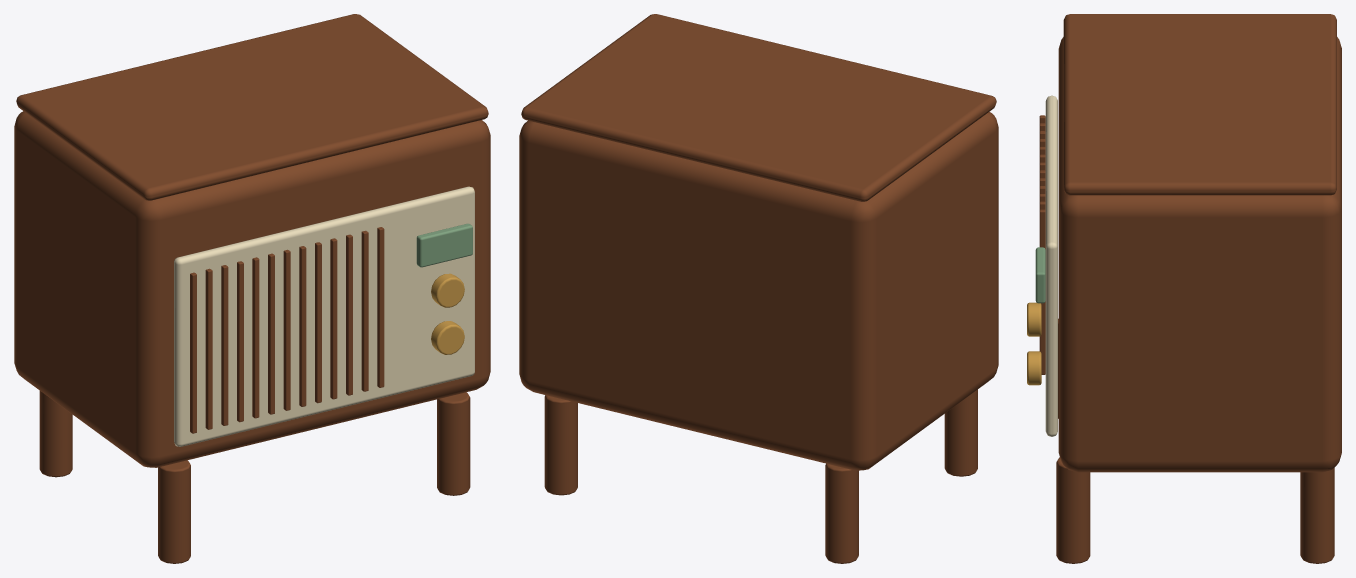
Rendered from console_radio.glb.
3 renders of one model, left to right at view 1: azimuth 30°, elevation 25°; view 2: azimuth 150°, elevation 25°; view 3: azimuth 270°, elevation 25°, orthographic. The views are drawn at different scales.
Parts seen in each view (by area): view 1: Cube, Cube.016, Cube.001, Cylinder.003, Cylinder.001, Cylinder, Cube.015, Cube.011, Cube.003, Cube.006, Cube.008, Cube.004 (+10 smaller); view 2: Cube, Cube.016, Cylinder, Cylinder.002, Cylinder.001; view 3: Cube, Cube.016, Cube.001, Cylinder.003, Cylinder.002, Cube.014, Cube.015, Cylinder.004, Cylinder.005.
Boxes of the visible parts, box(x1,y1,x2,y2) form: Cube: box(14, 111, 490, 467); Cube.016: box(16, 14, 488, 200); Cube.001: box(174, 186, 474, 446); Cylinder.003: box(437, 392, 470, 495); Cylinder.001: box(158, 460, 190, 563); Cylinder: box(39, 391, 72, 477); Cube.015: box(416, 223, 472, 267); Cube.011: box(330, 238, 337, 399); Cube.003: box(205, 268, 212, 429); Cube.006: box(252, 257, 259, 418); Cube.008: box(283, 249, 290, 410); Cube.004: box(221, 265, 228, 425); Cube: box(519, 112, 998, 470); Cube.016: box(521, 14, 996, 201); Cylinder: box(825, 463, 858, 563); Cylinder.002: box(544, 395, 577, 495); Cylinder.001: box(944, 389, 977, 476); Cube: box(1058, 37, 1341, 472); Cube.016: box(1063, 14, 1336, 195); Cube.001: box(1045, 95, 1057, 436); Cylinder.003: box(1056, 457, 1090, 563); Cylinder.002: box(1300, 467, 1334, 563); Cube.014: box(1039, 209, 1045, 374); Cube.015: box(1035, 247, 1045, 303); Cylinder.004: box(1027, 351, 1041, 385); Cylinder.005: box(1027, 302, 1041, 336).
Bounding box in the file's own units: 0.86 × 0.88 × 0.645.
